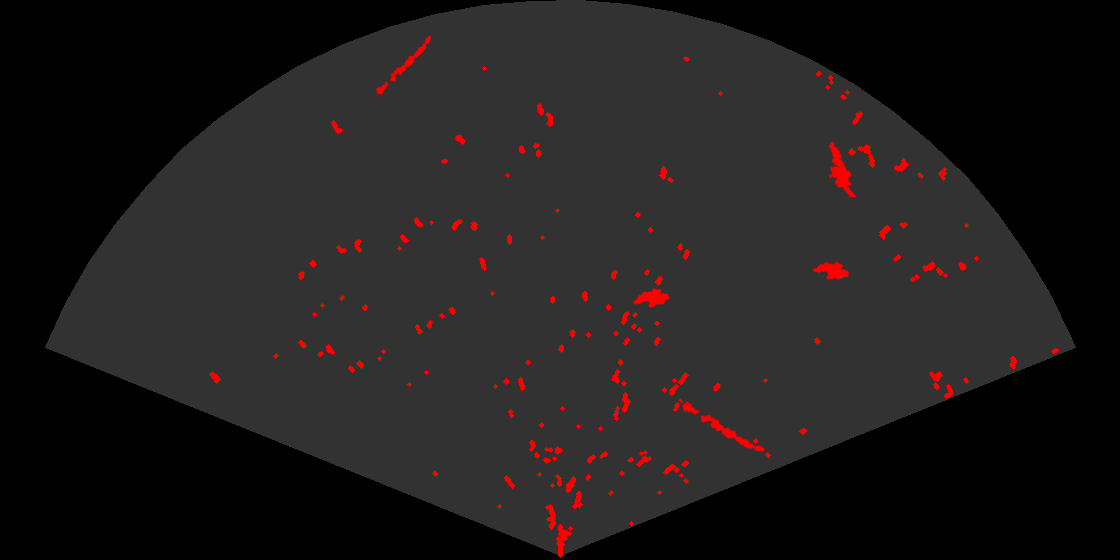AUV: (631, 286, 672, 309), (811, 260, 851, 281)
chain: (670, 394, 767, 454), (370, 34, 433, 103)
frogman: (827, 139, 858, 197)
